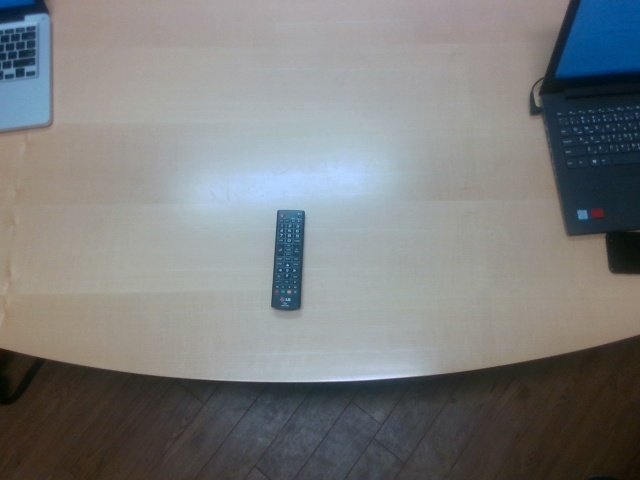remote: (272, 210, 305, 309)
